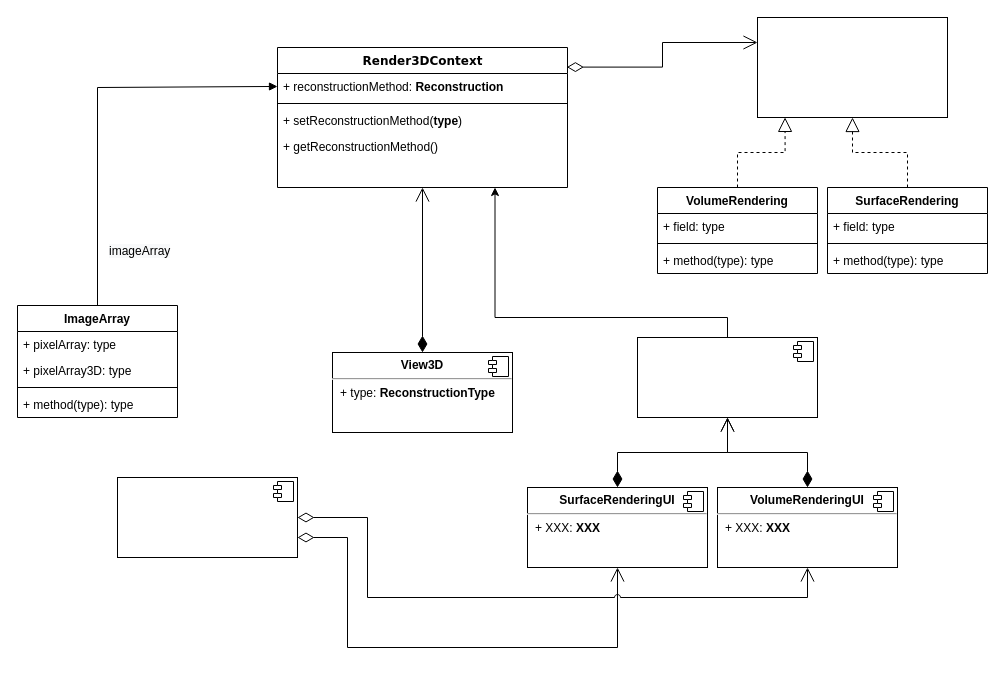
This 1005x682 diagram has some shape labels left out. The centre of each missing label's shape, as x and y in pixels:
<<Interface>> Reconstruction + field1: Type + method1(Type): Type: (x=852, y=67)
ReconstructionUI + XXX: XXX: (x=727, y=377)
Render3DUI + XXX: XXX: (x=207, y=517)
